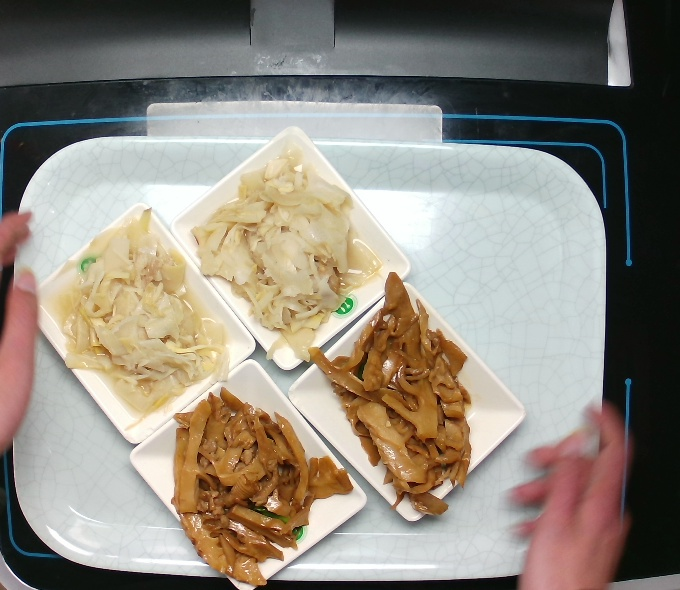wcq-LuSun: (188, 148, 386, 369), (51, 204, 233, 436)
wcq-SunGan: (303, 268, 481, 526), (167, 386, 356, 590)
